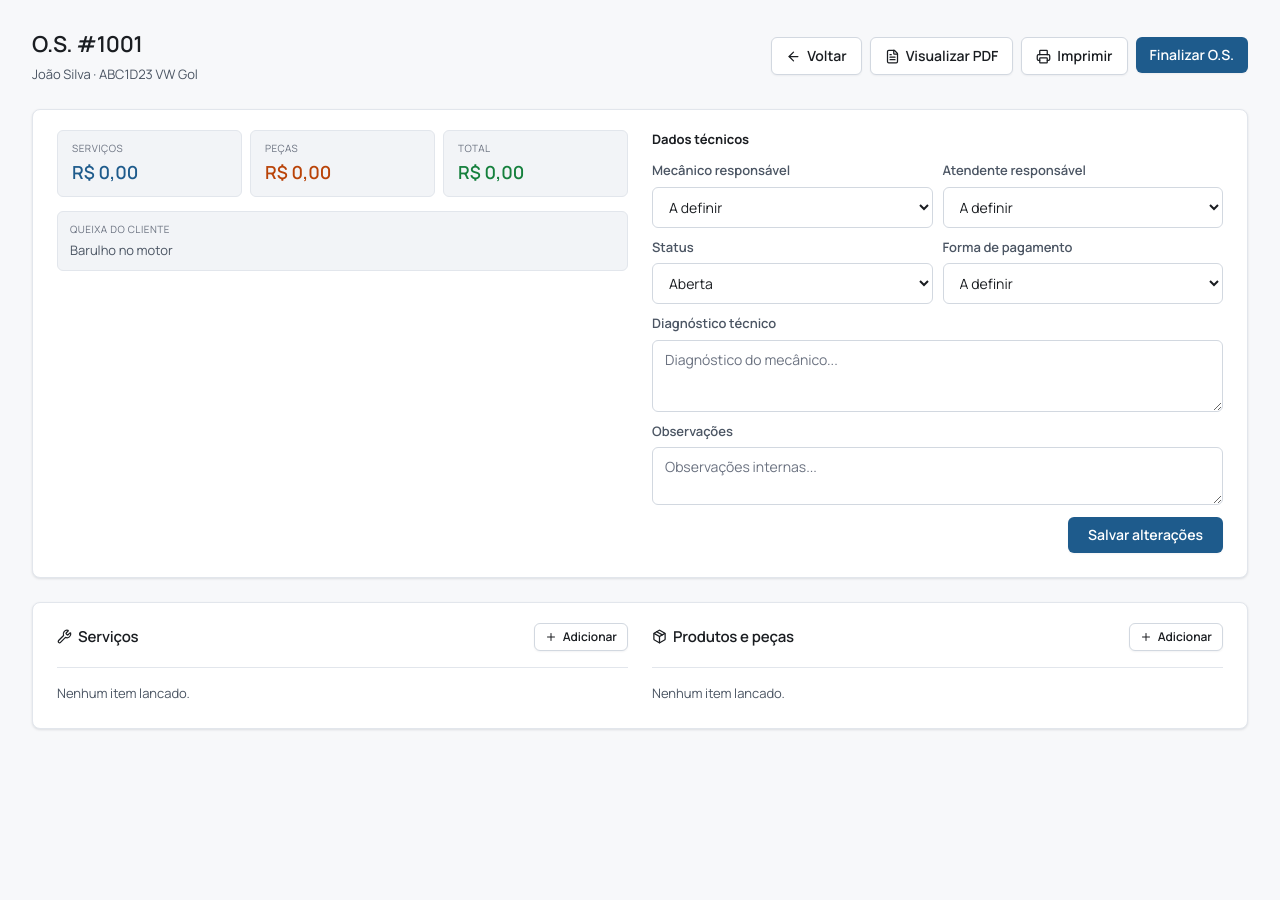
Scenario: Atualizar O.S. — lancamento de itens › lanca uma peca do estoque e soma no total
Click the button "Adicionar" in the row of "Produtos e peças" at x=1176, y=637, box left=1129, top=623, right=1223, bottom=651
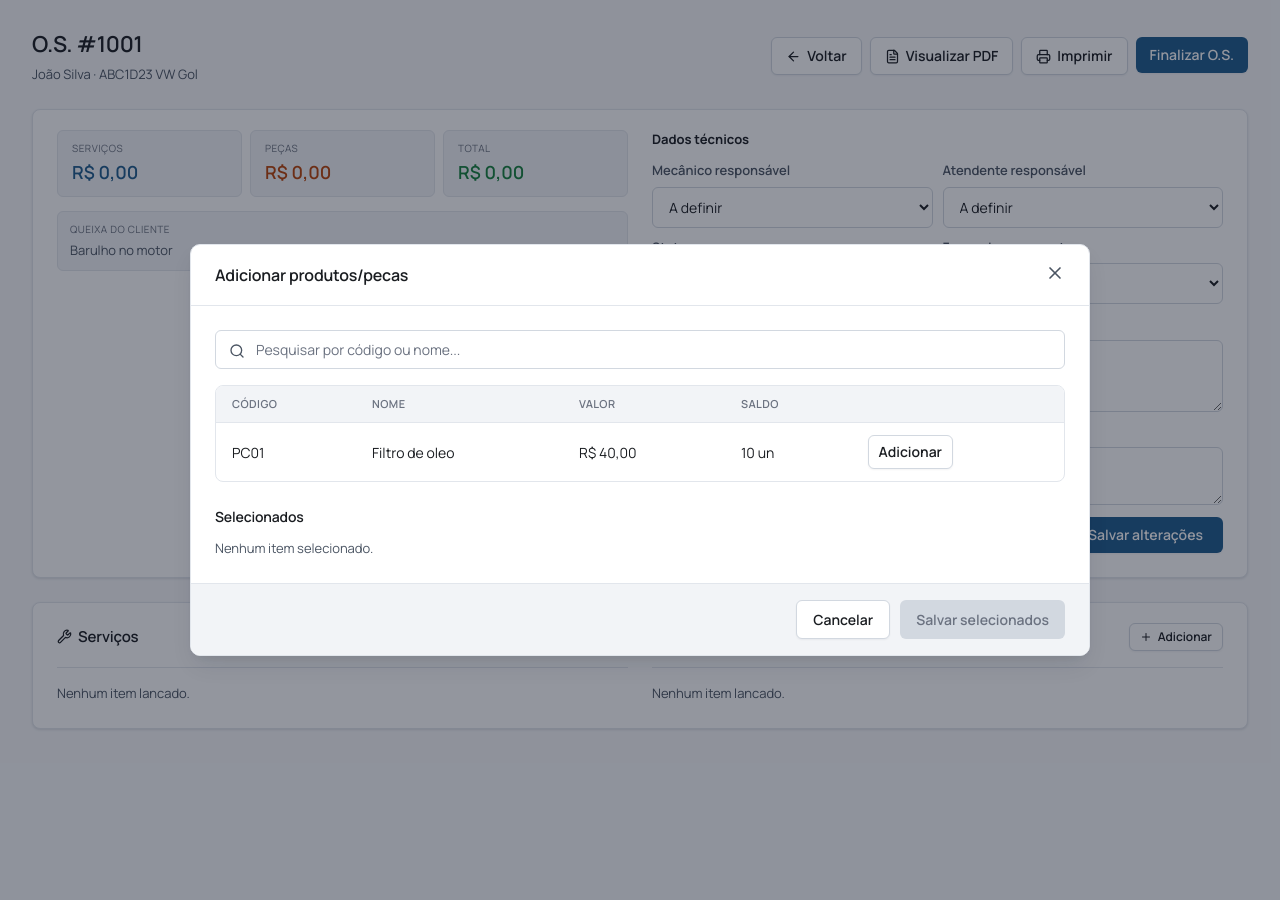
Expected: the element with class "modal-overlay" is shown
Click the button "Adicionar" at x=910, y=452, box left=868, top=435, right=953, bottom=469
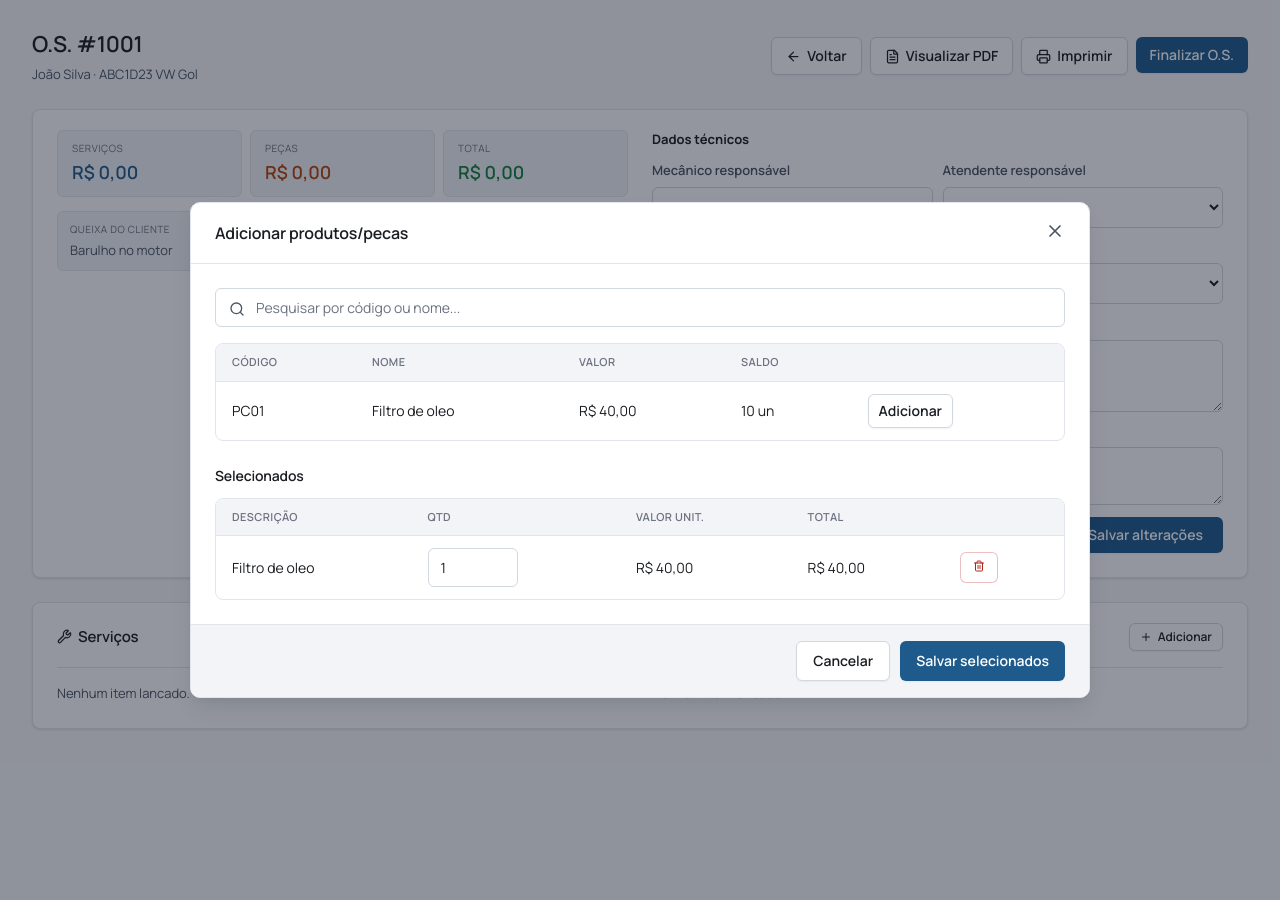
Click the button "Salvar selecionados" at x=983, y=661, box left=900, top=641, right=1065, bottom=681
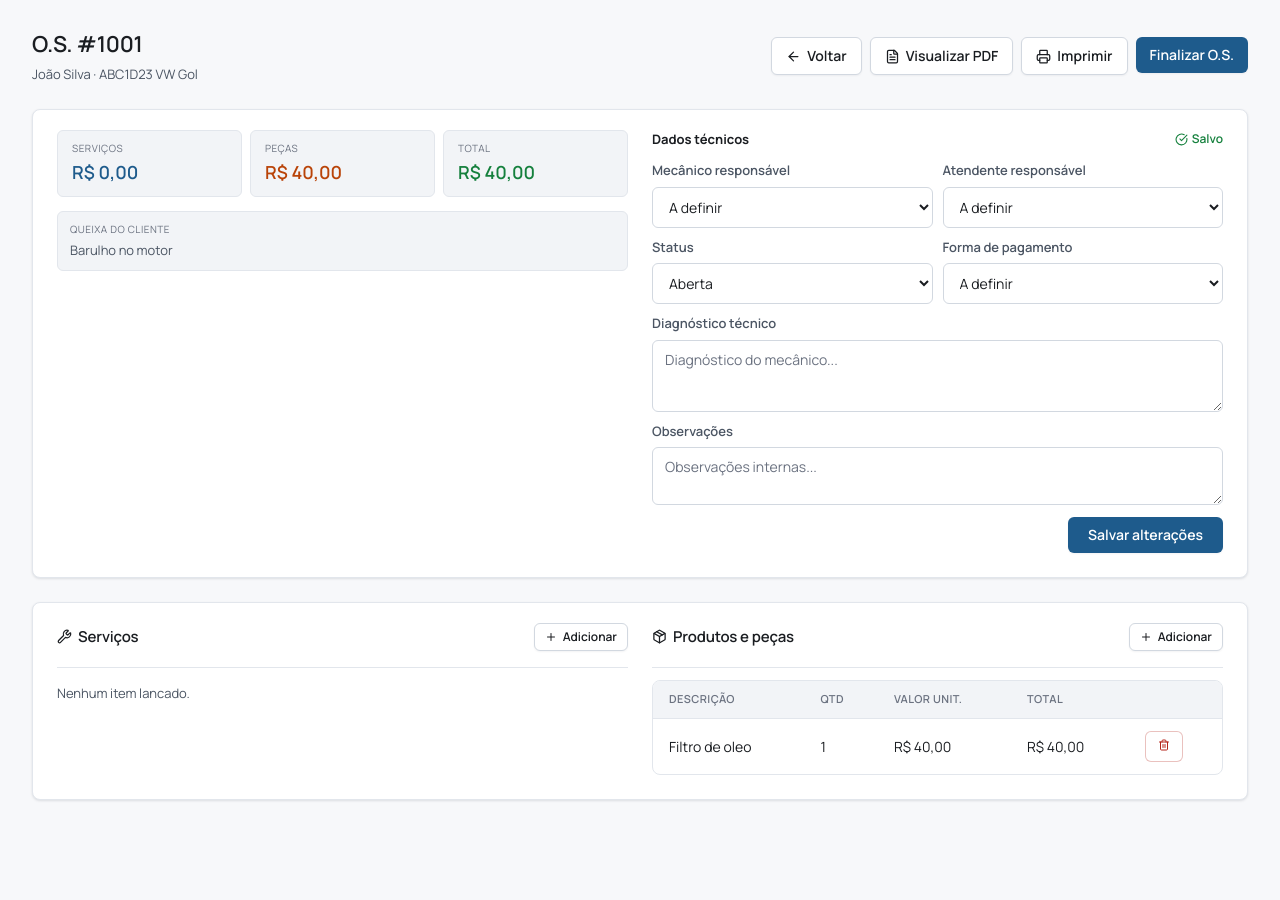
Expected: the 1st text "R$ 40,00" is shown, left=265, top=160, right=342, bottom=184
